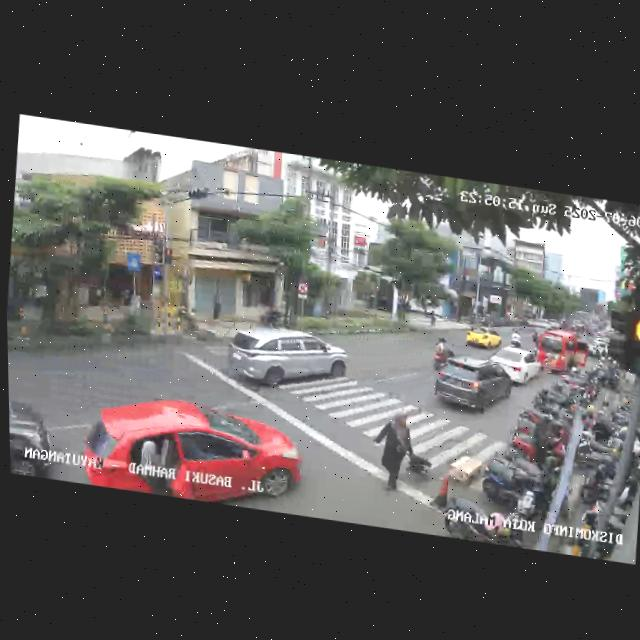car: (82, 386, 306, 515), (222, 320, 348, 404), (429, 349, 514, 419), (9, 392, 54, 479), (536, 327, 593, 380), (486, 343, 542, 388), (463, 324, 502, 352)
motorcycle: (430, 336, 455, 372), (509, 328, 522, 349)
person: (367, 403, 416, 500)
